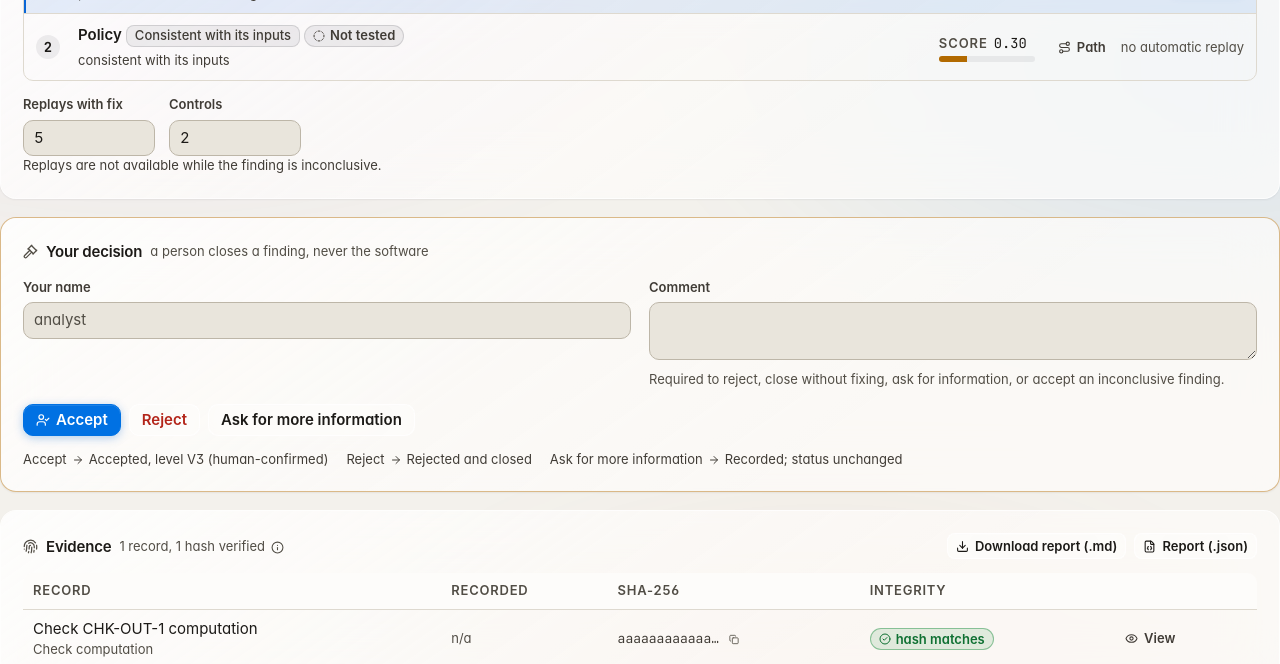
FR-REV-01 reviewer decisions › asks for a reason before accepting an inconclusive finding
(page scrolled)
Click the button "Accept" at (72, 420), box [23,404,121,436]
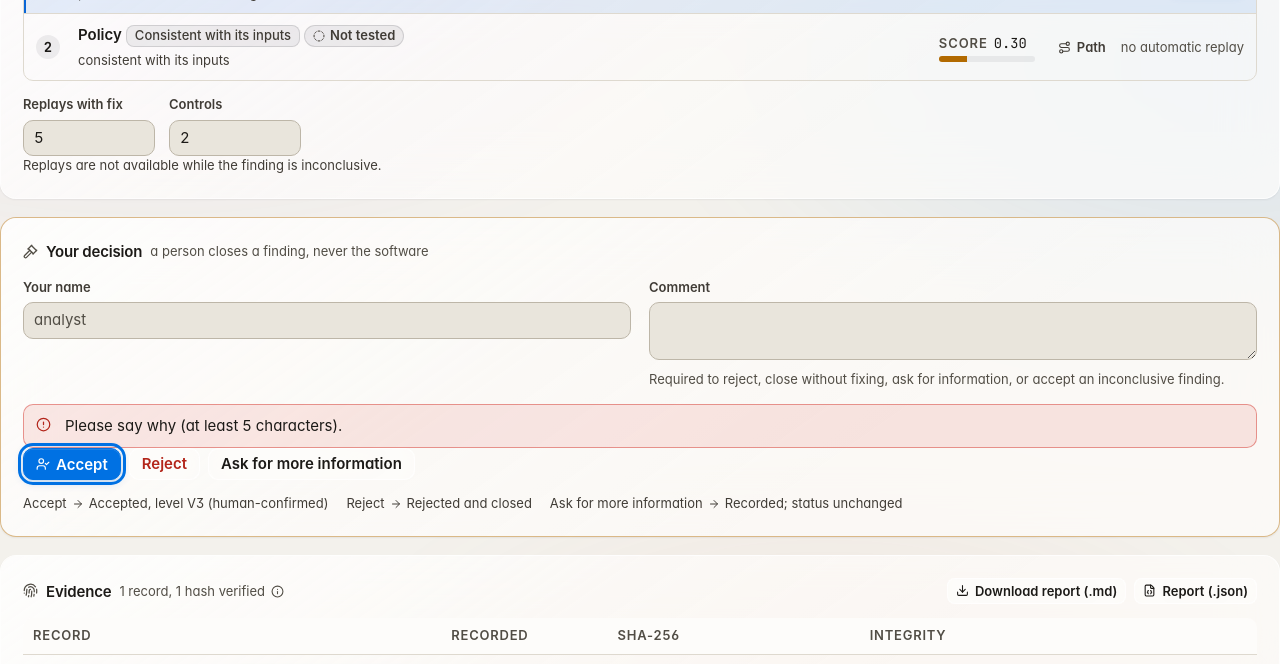
expect the text "Please say why (at least 5 characters)." is shown: met, box [65,416,342,435]
